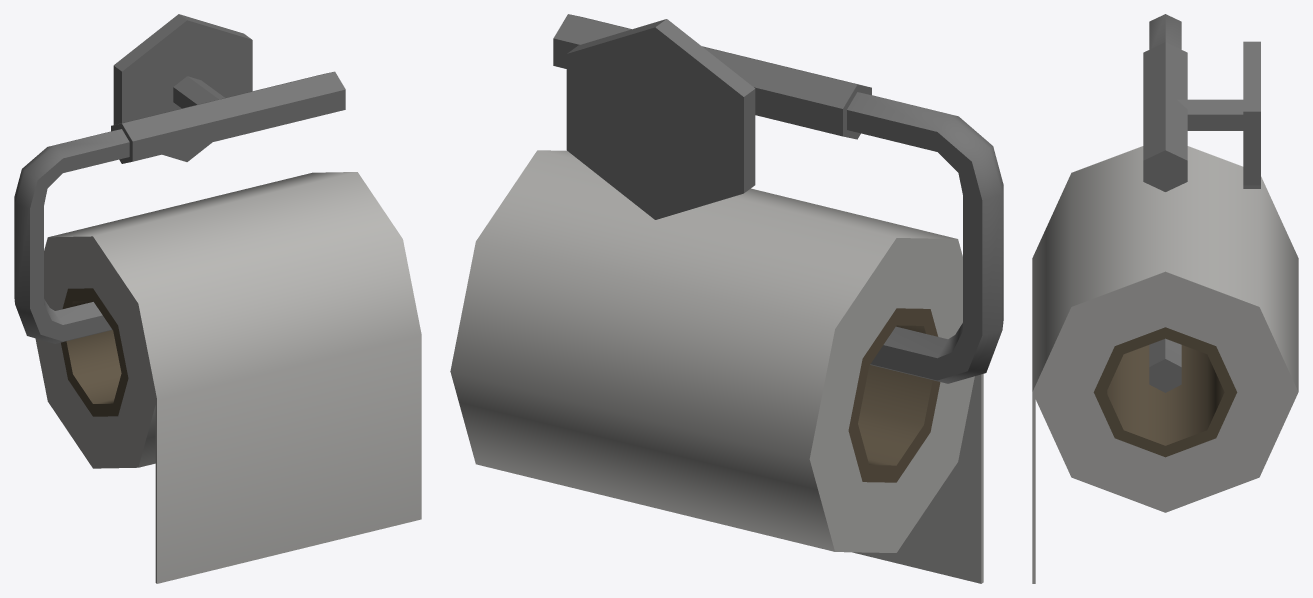
The model's file is tpHolder.glb.
3 views of the same model, side by side, from view 1: azimuth 30°, elevation 25°; view 2: azimuth 150°, elevation 25°; view 3: azimuth 270°, elevation 25° (orthographic). The views are drawn at different scales.
Parts seen in each view (by area): view 1: Bathroom_ToiletPaper; view 2: Bathroom_ToiletPaper; view 3: Bathroom_ToiletPaper.
Part boxes in pixels (x1,y1,x2,y2): Bathroom_ToiletPaper: [14, 14, 421, 583]; Bathroom_ToiletPaper: [450, 14, 1003, 583]; Bathroom_ToiletPaper: [1032, 14, 1298, 583].
Bounding box in the file's own units: 29.99 × 34.44 × 17.49.
